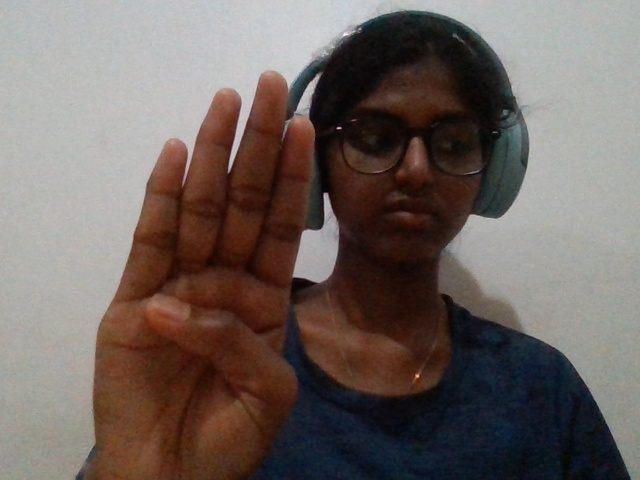B: (60, 47, 326, 480)
